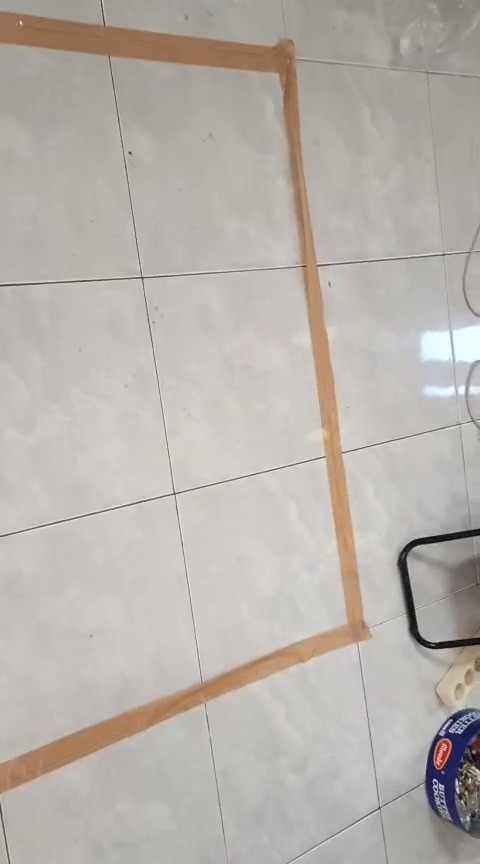floor marking: (0, 12, 369, 791)
